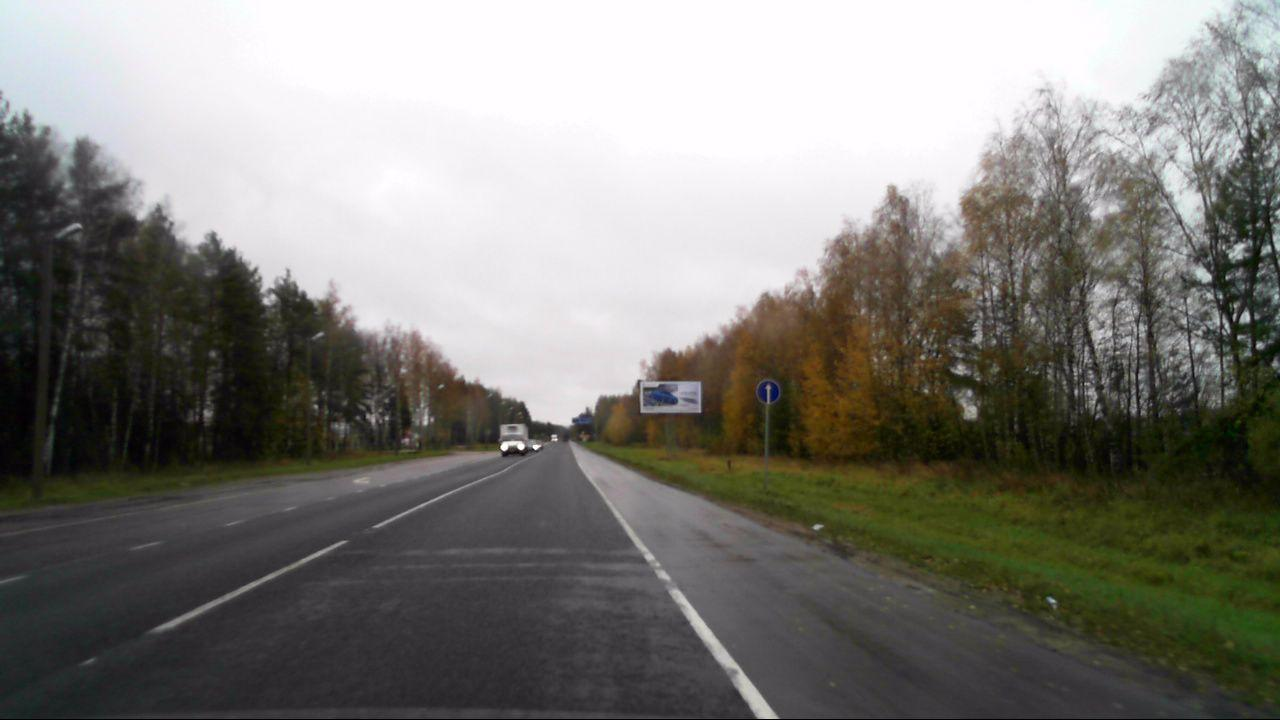road_sign: (755, 379, 781, 405)
